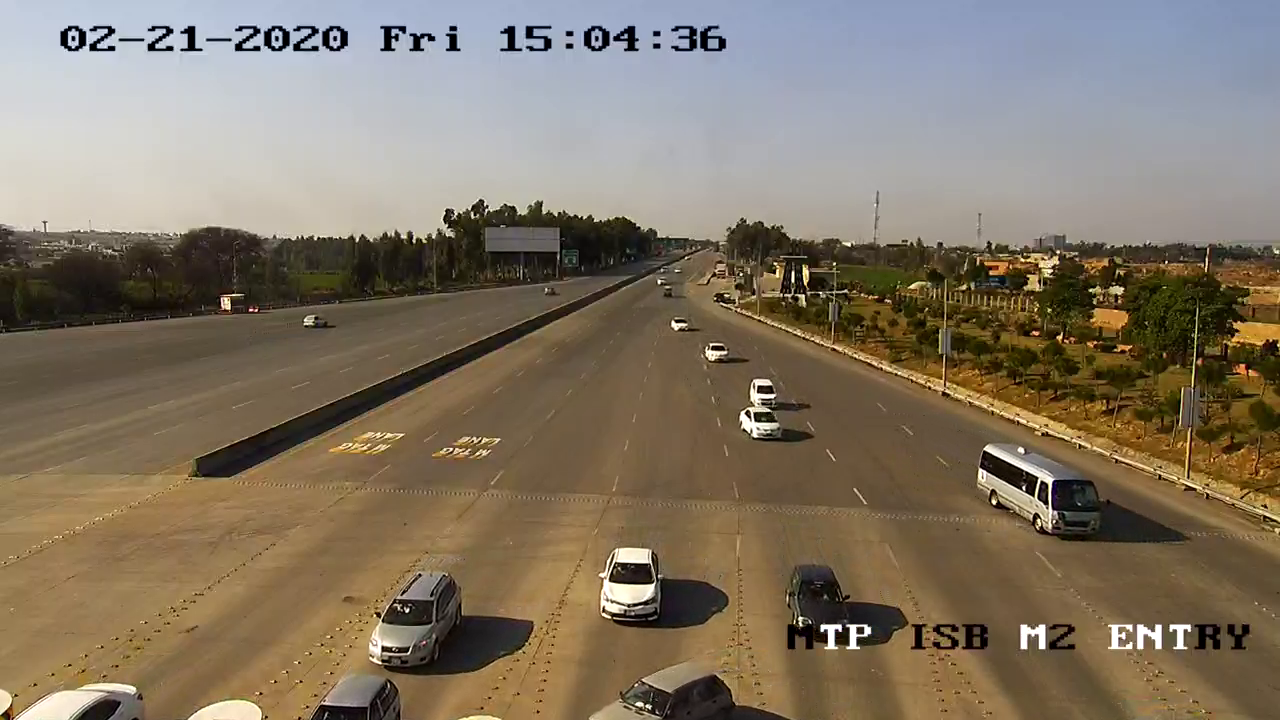f1: (351, 560, 471, 678), (583, 528, 672, 635), (731, 397, 789, 452)
f3: (963, 436, 1114, 555)
